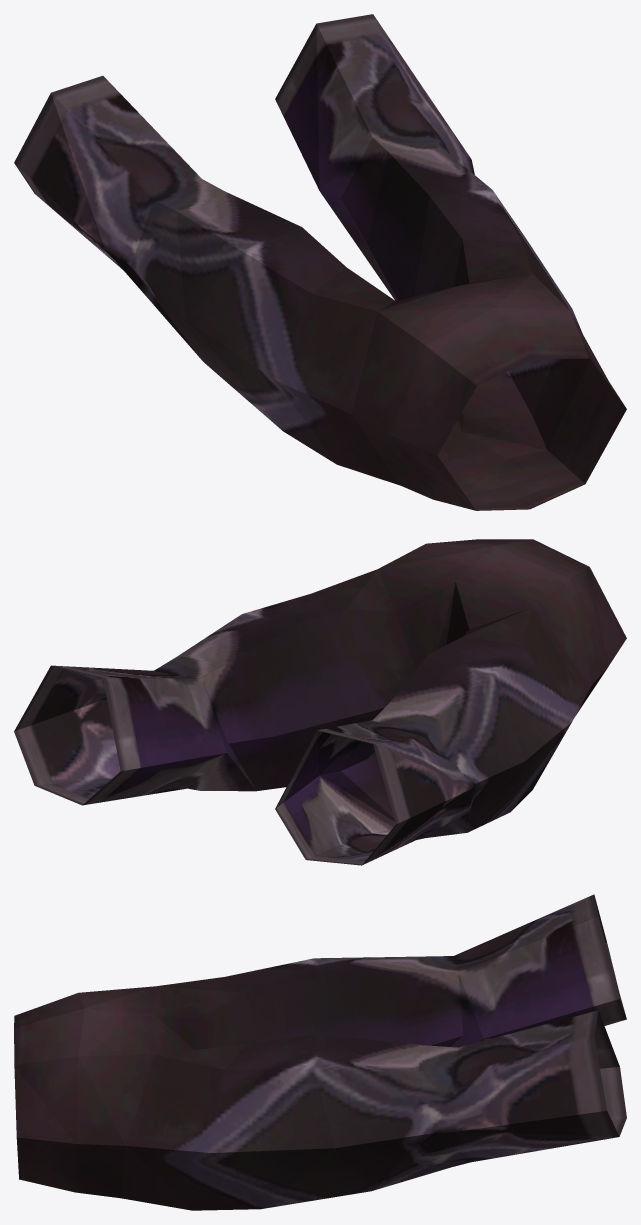
Rendered from necromancer_trousers_male_190056.obj.
3 views of the same model, one above another, from view 1: azimuth 30°, elevation 25°; view 2: azimuth 150°, elevation 25°; view 3: azimuth 270°, elevation 25° (orthographic). The views are drawn at different scales.
Parts seen in each view (by area): view 1: necromancer_trousers_male_190056; view 2: necromancer_trousers_male_190056; view 3: necromancer_trousers_male_190056.
Part boxes in pixels (x1,y1,x2,y2): necromancer_trousers_male_190056: (14, 14, 626, 510); necromancer_trousers_male_190056: (14, 539, 626, 865); necromancer_trousers_male_190056: (14, 894, 626, 1210).
Bounding box in the file's own units: 23.25 × 13.5 × 35.82.
1 material, 1 textured.
